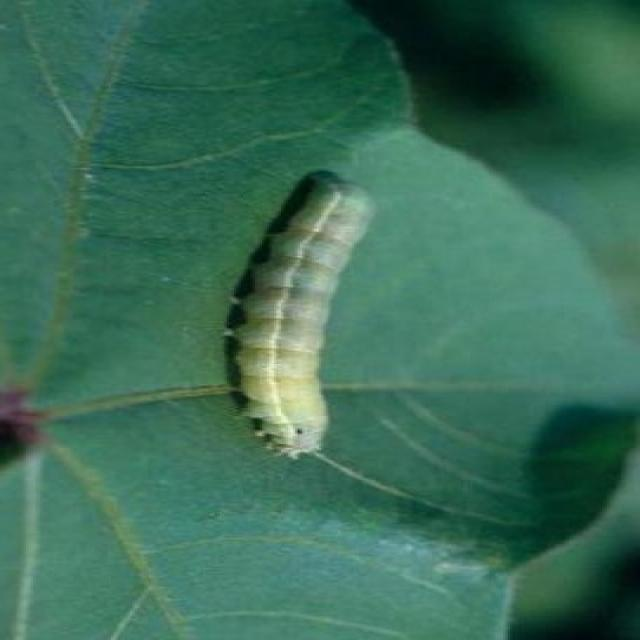army worm: (223, 172, 388, 465)
